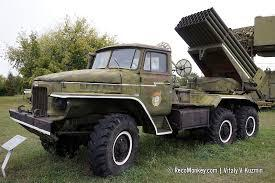MIL_SAM_TEL: (15, 8, 264, 171)
